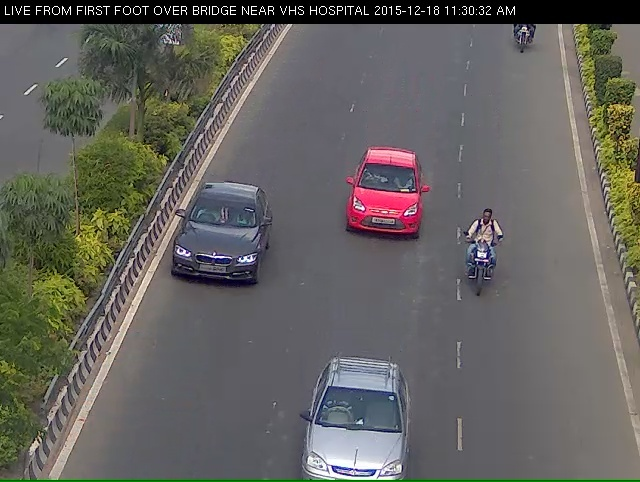Car: (156, 193, 265, 313), (339, 149, 429, 257)
Person: (458, 219, 510, 309)
